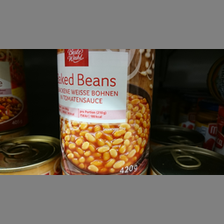beans: (57, 48, 155, 175)
